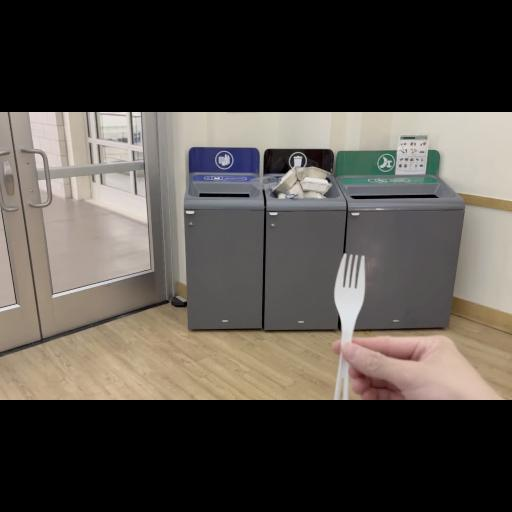utensil: (325, 250, 369, 400)
